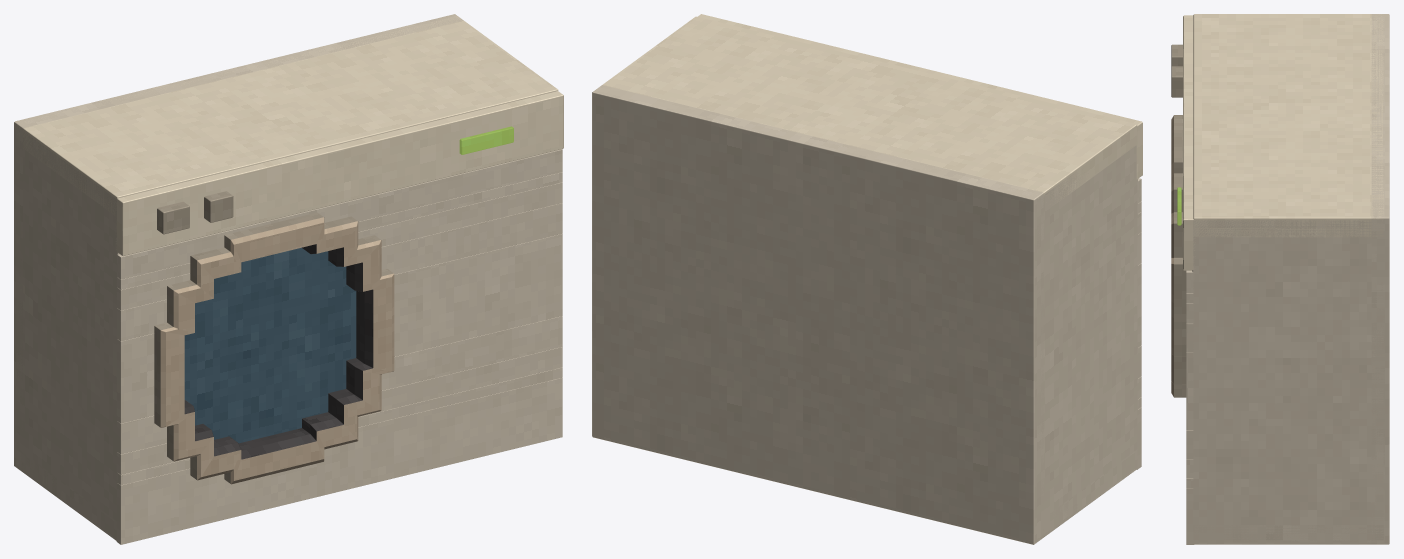
File: Washer.glb
3 renders of one model, left to right at view 1: azimuth 30°, elevation 25°; view 2: azimuth 150°, elevation 25°; view 3: azimuth 270°, elevation 25°, orthographic. The views are drawn at different scales.
Visible parts, largest first — view 1: Washer.Case, Washer.FrontPanel, Washer.PreviewGlass, Washer.Bezel, Washer.Controls, Washer.Dial.Left, Washer.Dial.Right; view 2: Washer.Case, Washer.Controls, Washer.FrontPanel; view 3: Washer.Case, Washer.Bezel, Washer.Controls, Washer.FrontPanel, Washer.Dial.Right.
Part boxes in pixels (x1,y1,x2,y2): Washer.Case: [14, 14, 558, 540]; Washer.FrontPanel: [116, 149, 562, 544]; Washer.PreviewGlass: [184, 247, 356, 443]; Washer.Bezel: [154, 212, 394, 484]; Washer.Controls: [115, 91, 563, 256]; Washer.Dial.Left: [157, 201, 189, 234]; Washer.Dial.Right: [204, 191, 233, 222]; Washer.Case: [592, 16, 1137, 544]; Washer.Controls: [697, 14, 1142, 179]; Washer.FrontPanel: [1136, 178, 1141, 469]; Washer.Case: [1192, 14, 1389, 544]; Washer.Bezel: [1171, 115, 1186, 397]; Washer.Controls: [1177, 15, 1195, 270]; Washer.FrontPanel: [1186, 270, 1194, 544]; Washer.Dial.Right: [1171, 66, 1182, 97].
Bounding box in the file's own units: 2.25 × 1.68 × 1.02.
Materials: 8 (8 with a texture image).
